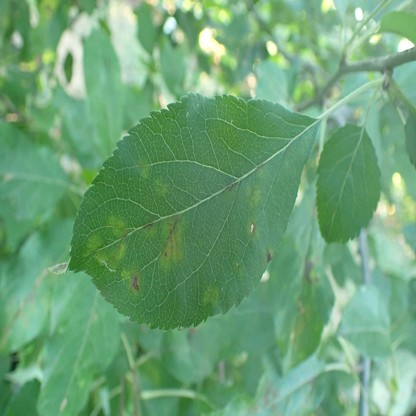scab: (278, 241, 322, 366), (157, 213, 184, 266), (97, 242, 127, 272), (108, 215, 128, 238), (246, 180, 263, 206), (262, 385, 279, 407), (87, 234, 103, 255), (221, 182, 238, 200), (129, 270, 141, 293), (246, 220, 258, 239), (204, 287, 219, 302), (232, 260, 243, 280), (138, 161, 150, 178), (263, 245, 273, 264), (144, 220, 157, 234), (155, 182, 168, 194)
